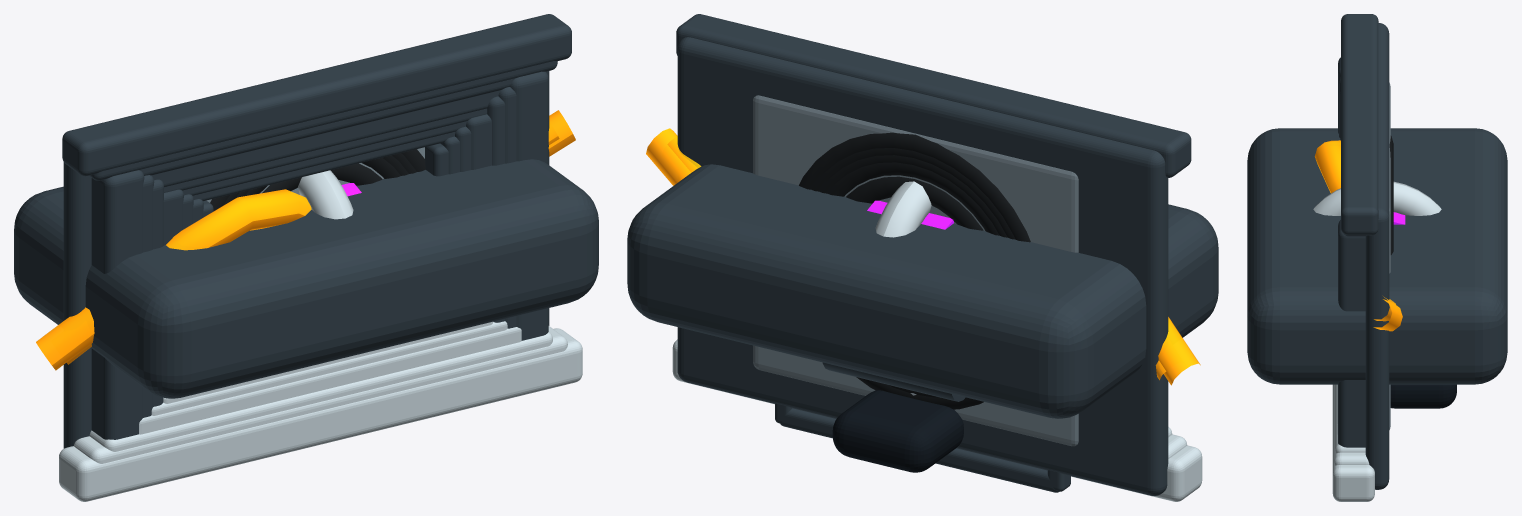
Rendered from body_14.glb.
The picture shows the model from 3 angles, left to right: view 1: azimuth 30°, elevation 25°; view 2: azimuth 150°, elevation 25°; view 3: azimuth 270°, elevation 25°; orthographic projection. The views are drawn at different scales.
Parts seen in each view (by area): view 1: asset_mesh__body_0674__reference_body, asset_mesh__body_0673__lower_flange, asset_mesh__body_0673__upper_flange, asset_mesh__body_0673__left_reinforcement, asset_mesh__body_0719__fluid_path, asset_mesh__body_0673__stamped_sheet, asset_mesh__body_0741__upper_flange, asset_mesh__body_0671__upper_flange, asset_mesh__body_0741__lower_flange, asset_mesh__body_0672__upper_flange, asset_mesh__body_0672__lower_flange, asset_mesh__body_0673__right_reinforcement (+15 smaller); view 2: asset_mesh__body_0674__reference_body, asset_mesh__body_0673__stamped_sheet, asset_mesh__body_0690__door_shell, asset_mesh__body_0673__lower_flange, asset_mesh__body_0753__mounting_base, asset_mesh__body_0754__service_element, asset_mesh__body_0690__window_frame_top, asset_mesh__body_0719__fluid_path, asset_mesh__body_0706__service_element, asset_mesh__body_0739__service_element, asset_mesh__body_0673__upper_flange, asset_mesh__body_0720__functional_ring (+3 smaller); view 3: asset_mesh__body_0674__reference_body, asset_mesh__body_0673__stamped_sheet, asset_mesh__body_0673__lower_flange, asset_mesh__body_0673__right_reinforcement, asset_mesh__body_0673__upper_flange, asset_mesh__body_0720__functional_ring, asset_mesh__body_0753__mounting_base, asset_mesh__body_0719__fluid_path, asset_mesh__body_0672__upper_flange, asset_mesh__body_0754__service_element, asset_mesh__body_0690__door_shell, asset_mesh__body_0671__upper_flange.
Part boxes in pixels (box(x1,y1,x2,y2)): asset_mesh__body_0674__reference_body: box(14, 159, 598, 398); asset_mesh__body_0673__lower_flange: box(62, 14, 571, 176); asset_mesh__body_0673__upper_flange: box(59, 328, 582, 501); asset_mesh__body_0673__left_reinforcement: box(91, 170, 144, 439); asset_mesh__body_0719__fluid_path: box(36, 110, 575, 370); asset_mesh__body_0673__stamped_sheet: box(63, 71, 549, 448); asset_mesh__body_0741__upper_flange: box(139, 327, 521, 434); asset_mesh__body_0671__upper_flange: box(89, 332, 552, 451); asset_mesh__body_0741__lower_flange: box(152, 90, 500, 186); asset_mesh__body_0672__upper_flange: box(74, 326, 567, 463); asset_mesh__body_0672__lower_flange: box(89, 61, 557, 180); asset_mesh__body_0673__right_reinforcement: box(510, 71, 548, 340); asset_mesh__body_0674__reference_body: box(627, 164, 1218, 418); asset_mesh__body_0673__stamped_sheet: box(677, 37, 1168, 495); asset_mesh__body_0690__door_shell: box(753, 95, 1078, 446); asset_mesh__body_0673__lower_flange: box(676, 14, 1191, 177); asset_mesh__body_0753__mounting_base: box(832, 390, 963, 472); asset_mesh__body_0754__service_element: box(799, 132, 1030, 409); asset_mesh__body_0690__window_frame_top: box(780, 408, 1059, 492); asset_mesh__body_0719__fluid_path: box(646, 128, 1200, 385); asset_mesh__body_0706__service_element: box(827, 162, 999, 235); asset_mesh__body_0739__service_element: box(846, 176, 983, 230); asset_mesh__body_0673__upper_flange: box(672, 339, 1202, 501); asset_mesh__body_0720__functional_ring: box(875, 181, 931, 237); asset_mesh__body_0674__reference_body: box(1247, 128, 1507, 384); asset_mesh__body_0673__stamped_sheet: box(1365, 23, 1389, 489); asset_mesh__body_0673__lower_flange: box(1341, 14, 1378, 235); asset_mesh__body_0673__right_reinforcement: box(1338, 220, 1365, 447); asset_mesh__body_0673__upper_flange: box(1332, 384, 1374, 501); asset_mesh__body_0720__functional_ring: box(1313, 181, 1441, 215); asset_mesh__body_0753__mounting_base: box(1390, 384, 1456, 408); asset_mesh__body_0719__fluid_path: box(1314, 140, 1402, 331); asset_mesh__body_0672__upper_flange: box(1334, 384, 1369, 465); asset_mesh__body_0754__service_element: box(1389, 135, 1393, 254); asset_mesh__body_0690__door_shell: box(1389, 82, 1390, 429); asset_mesh__body_0671__upper_flange: box(1335, 384, 1365, 453).
Size of the model in its own units: 1.73 by 1.13 by 0.882.
